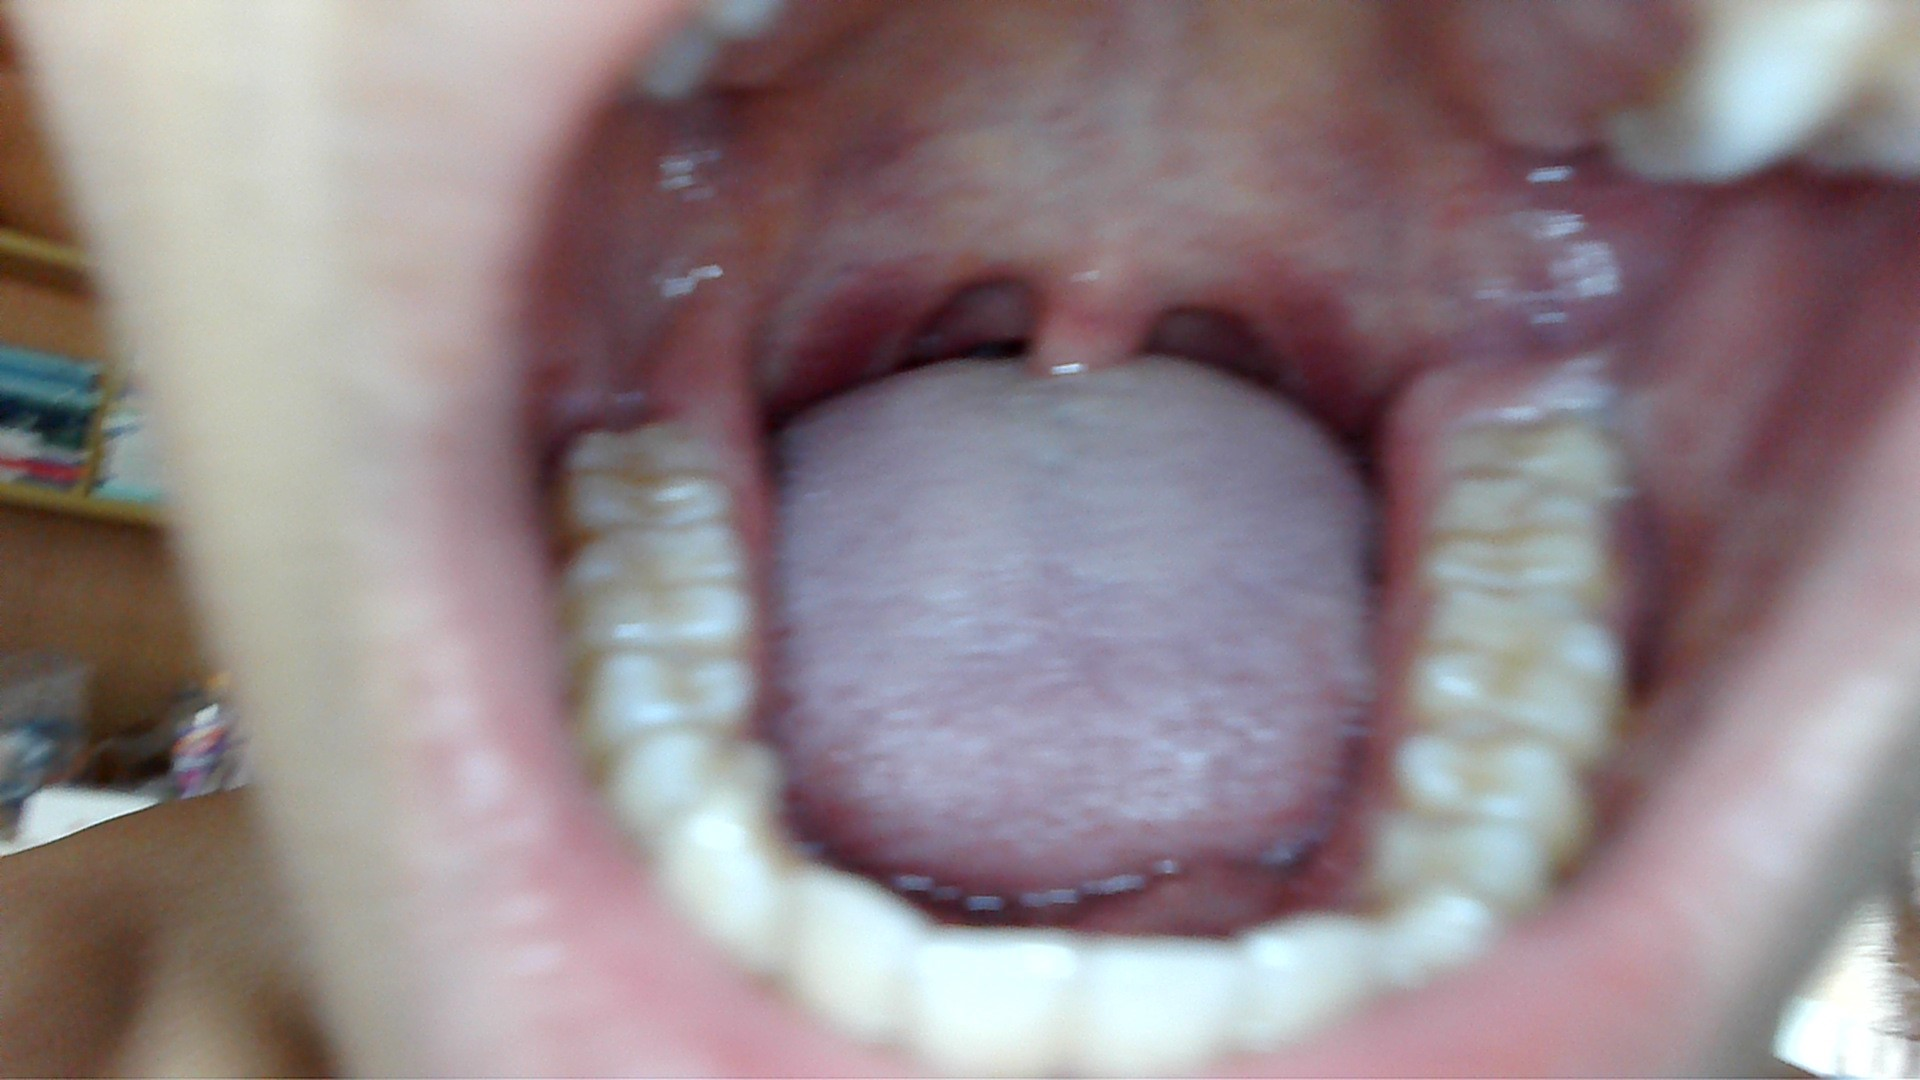throat: (1250, 256, 1354, 400), (847, 252, 942, 372)
